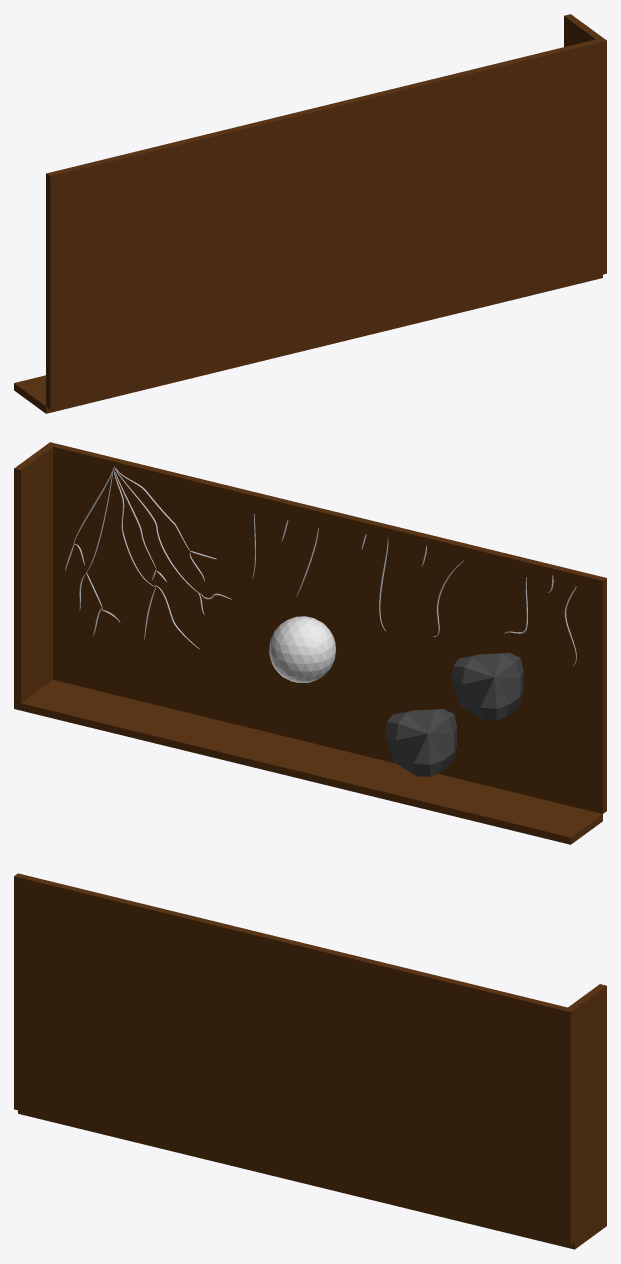
Rendered from Dirt_Platform_Begin.fbx.
3 renders of one model, top to bottom at view 1: azimuth 30°, elevation 25°; view 2: azimuth 150°, elevation 25°; view 3: azimuth 330°, elevation 25°, orthographic.
Parts seen in each view (by area): view 1: Cube.001, Cube; view 2: Cube.001, Cube, Cube.004, Cube.002, Icosphere, BezierCurve; view 3: Cube.001, Cube.
Part boxes in pixels (<box>): Cube.001: <box>14,37,606,413</box>; Cube: <box>564,14,602,46</box>; Cube.001: <box>14,442,606,844</box>; Cube: <box>14,445,52,703</box>; Cube.004: <box>451,652,523,720</box>; Cube.002: <box>384,709,456,776</box>; Icosphere: <box>269,616,336,682</box>; BezierCurve: <box>65,466,576,666</box>; Cube.001: <box>14,873,606,1249</box>; Cube: <box>568,984,606,1241</box>.
Bounding box in the file's own units: 2000 × 825 × 231.
